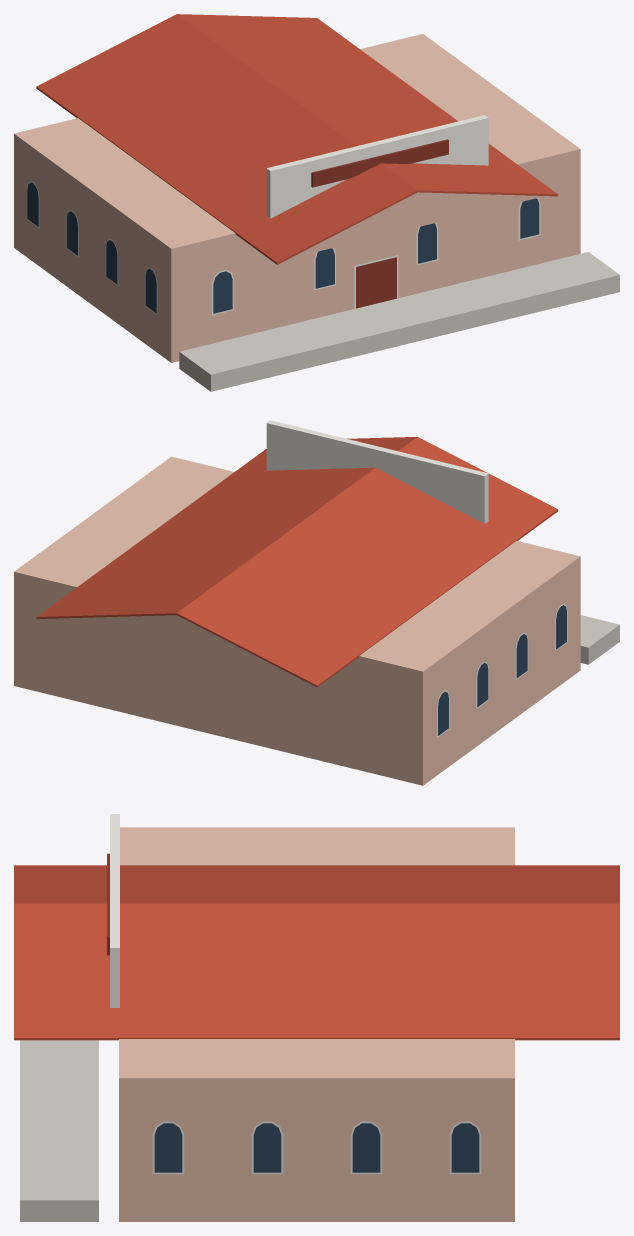
Rendered from cave_cooperative.glb.
The picture shows the model from 3 angles, top to bottom: view 1: azimuth 30°, elevation 25°; view 2: azimuth 150°, elevation 25°; view 3: azimuth 270°, elevation 25°; orthographic projection. The views are drawn at different scales.
Parts seen in each view (by area): view 1: cave_cooperative; view 2: cave_cooperative; view 3: cave_cooperative.
Part boxes in pixels (<box>): cave_cooperative: <box>14,14,619,391</box>; cave_cooperative: <box>14,420,619,785</box>; cave_cooperative: <box>14,814,619,1221</box>.
Bounding box in the file's own units: 30.1 × 12 × 30.6.
Materials: 1 (1 with a texture image).
